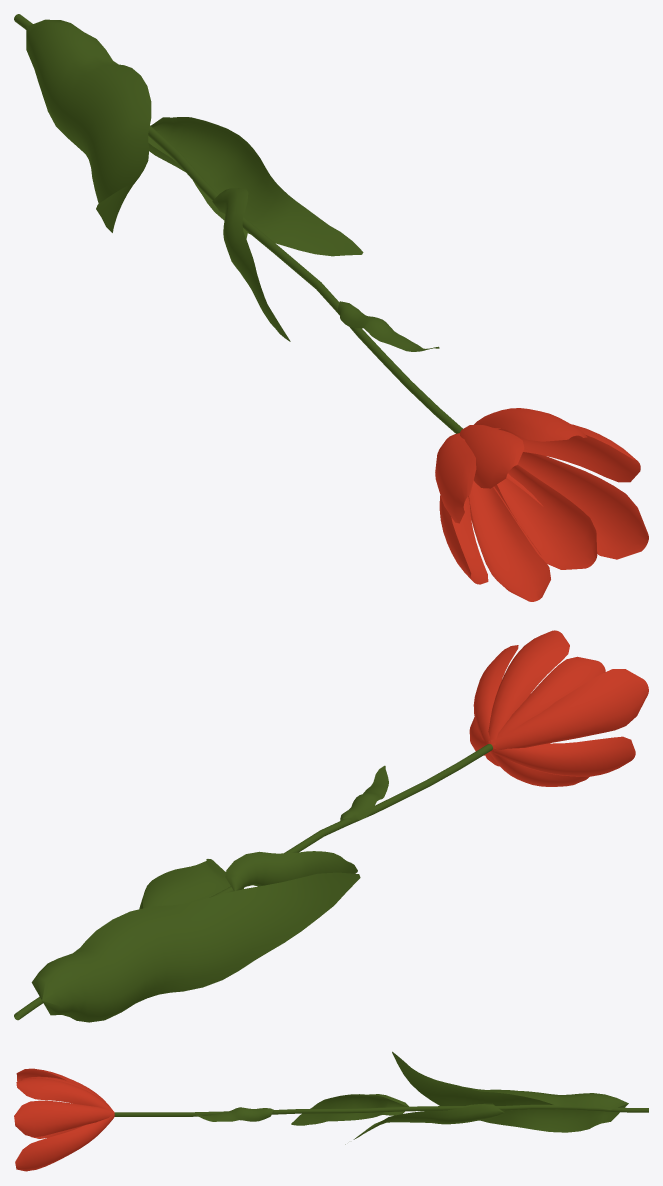
Rendered from Tulpen_short.dae.
3 views of the same model, one above another, from view 1: azimuth 30°, elevation 25°; view 2: azimuth 150°, elevation 25°; view 3: azimuth 270°, elevation 25° (orthographic). The views are drawn at different scales.
Parts seen in each view (by area): view 1: polySurface16, polySurface8, polySurface2, polySurface5, polySurface11, polySurface3, polySurface7, polySurface1, polySurface6, polySurface4; view 2: polySurface16, polySurface1, polySurface4, polySurface6, polySurface7, polySurface11, polySurface3, polySurface5; view 3: polySurface16, polySurface3, polySurface11, polySurface2, polySurface6, polySurface1, polySurface7.
Part boxes in pixels (x1,y1,x2,y2): polySurface16: [26, 19, 439, 351]; polySurface8: [493, 464, 597, 569]; polySurface2: [506, 448, 648, 559]; polySurface5: [468, 480, 550, 601]; polySurface11: [14, 14, 462, 433]; polySurface3: [493, 424, 640, 482]; polySurface7: [459, 425, 524, 488]; polySurface1: [435, 433, 476, 523]; polySurface6: [474, 408, 587, 441]; polySurface4: [439, 495, 488, 584]; polySurface16: [31, 765, 388, 1022]; polySurface1: [491, 669, 648, 751]; polySurface4: [490, 736, 635, 776]; polySurface6: [486, 630, 569, 744]; polySurface7: [488, 656, 605, 748]; polySurface11: [14, 744, 492, 1020]; polySurface3: [473, 645, 518, 744]; polySurface5: [490, 749, 589, 786]; polySurface16: [196, 1051, 628, 1144]; polySurface3: [14, 1100, 114, 1137]; polySurface11: [114, 1104, 648, 1116]; polySurface2: [15, 1113, 114, 1171]; polySurface6: [16, 1078, 114, 1115]; polySurface1: [16, 1068, 112, 1110]; polySurface7: [21, 1076, 113, 1112].
Size of the model in its own units: 8.17 by 5.77 by 38.21.
